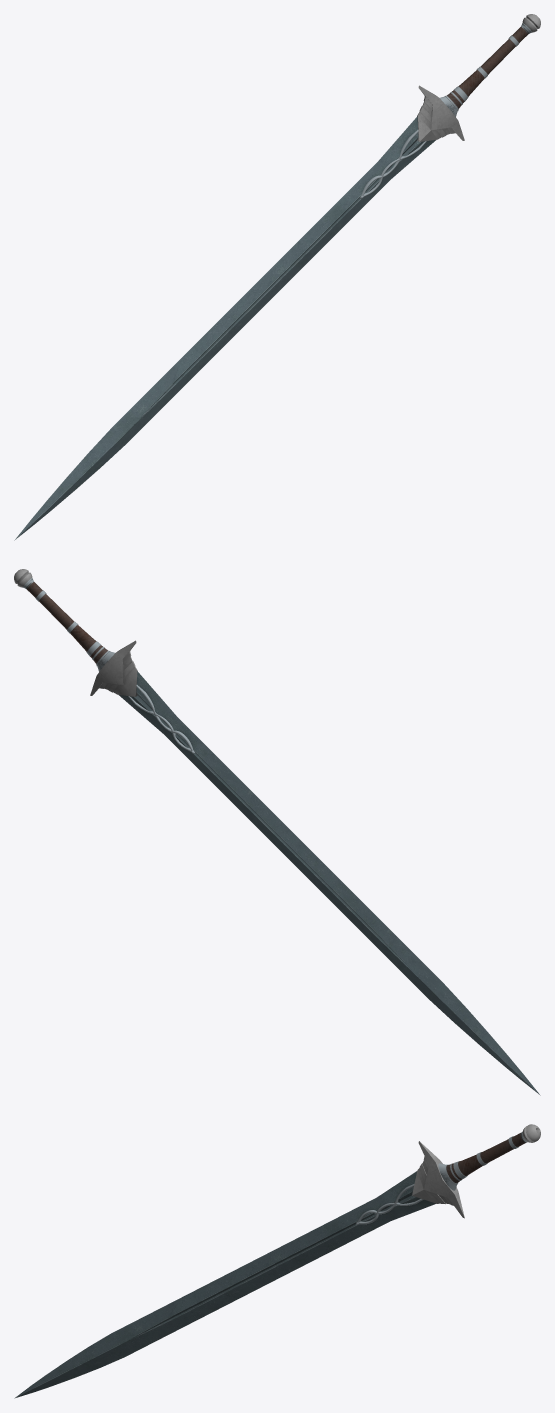
File: sword_814a3d5f.glb
3 views of the same model, one above another, from view 1: azimuth 30°, elevation 25°; view 2: azimuth 150°, elevation 25°; view 3: azimuth 330°, elevation 25° (orthographic).
Parts seen in each view (by area): view 1: polySurface33, polySurface38; view 2: polySurface33, polySurface38; view 3: polySurface33, polySurface38.
Boxes of the visible parts, x1=… form: polySurface33: x1=14, y1=23, x2=531, y2=540; polySurface38: x1=417, y1=14, x2=540, y2=141; polySurface33: x1=23, y1=578, x2=540, y2=1095; polySurface38: x1=14, y1=569, x2=137, y2=696; polySurface33: x1=14, y1=1132, x2=527, y2=1398; polySurface38: x1=412, y1=1124, x2=540, y2=1218.
Bounding box in the file's own units: 1.63 × 1.18 × 0.0492.
Materials: 2 (2 with a texture image).
